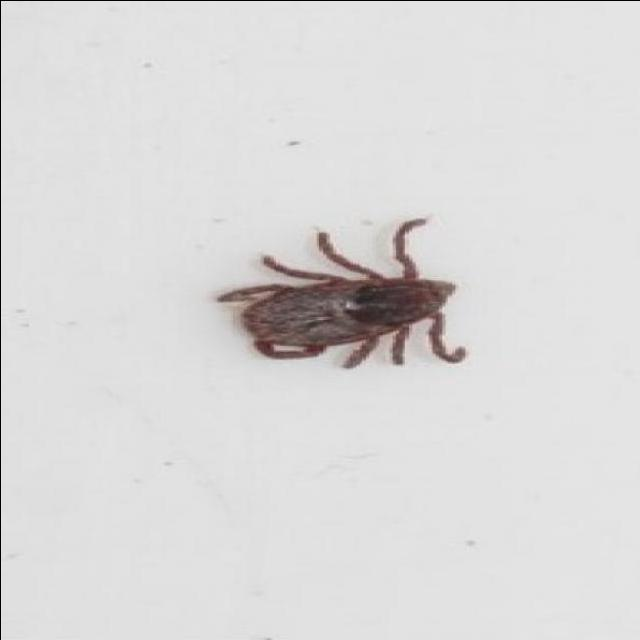Rhipicephalus Sanguineus-F: (213, 215, 464, 370)
